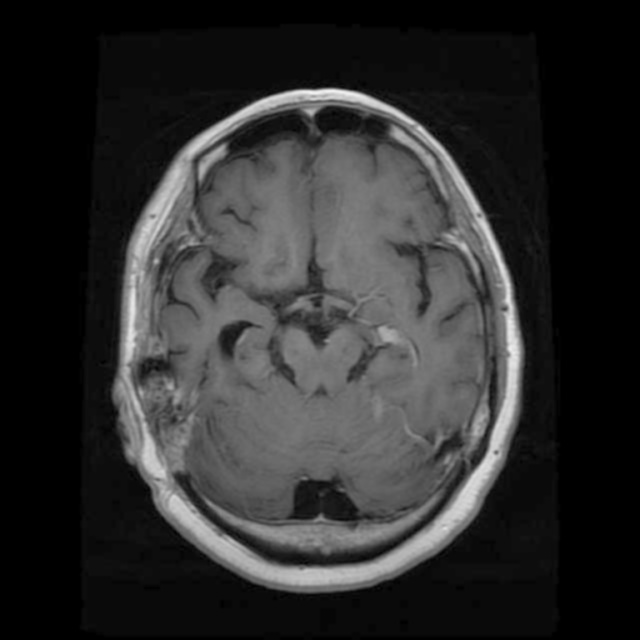pituitary tumor: (132, 358, 198, 472)
